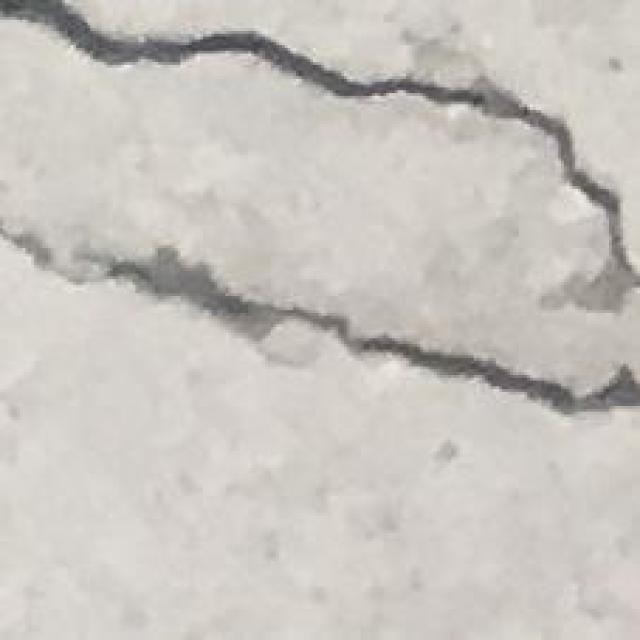Crack: (3, 3, 640, 296), (3, 220, 640, 428)
